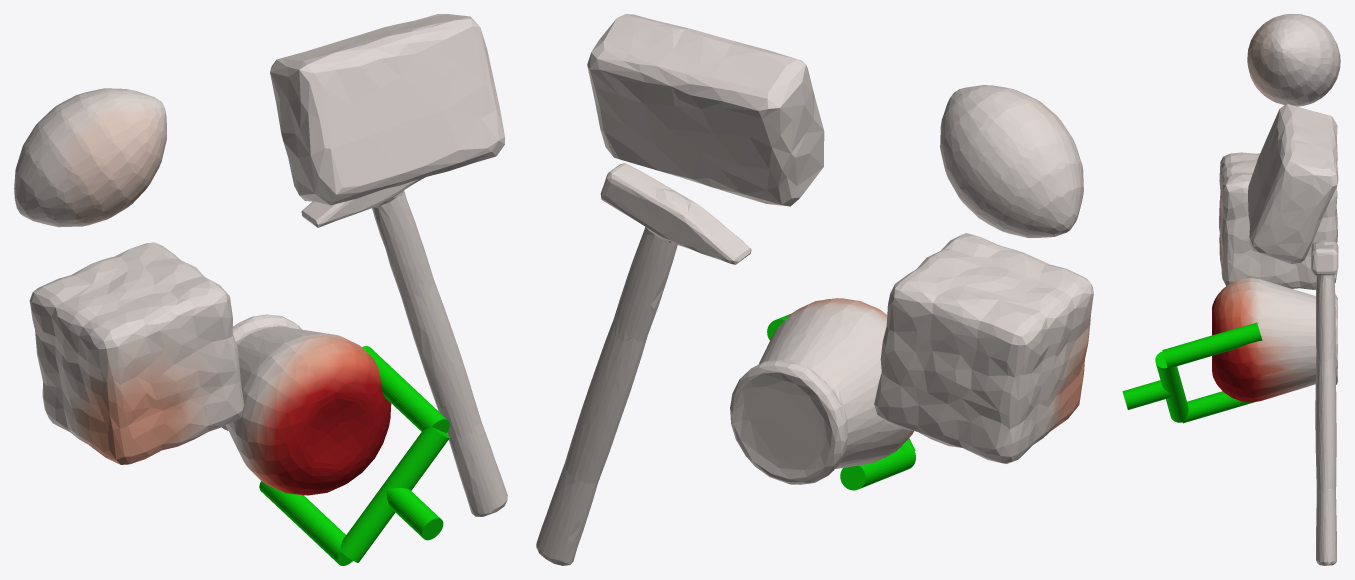
Rendered from round_000_trial_000.obj.
3 renders of one model, left to right at view 1: azimuth 30°, elevation 25°; view 2: azimuth 150°, elevation 25°; view 3: azimuth 270°, elevation 25°, orthographic. The views are drawn at different scales.
Parts seen in each view (by area): view 1: geometry_0, geometry_1; view 2: geometry_0, geometry_1; view 3: geometry_0, geometry_1.
Boxes of the visible parts, x1,y1,x2,y2 form: geometry_0: (14, 14, 507, 516); geometry_1: (259, 346, 449, 565); geometry_0: (536, 14, 1093, 565); geometry_1: (767, 299, 915, 490); geometry_0: (1212, 14, 1340, 565); geometry_1: (1122, 322, 1262, 423).
Size of the model in its own units: 0.2201 by 0.2236 by 0.1104.
